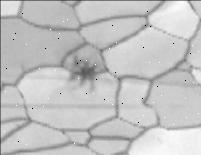good_void: (67, 55, 97, 92)
